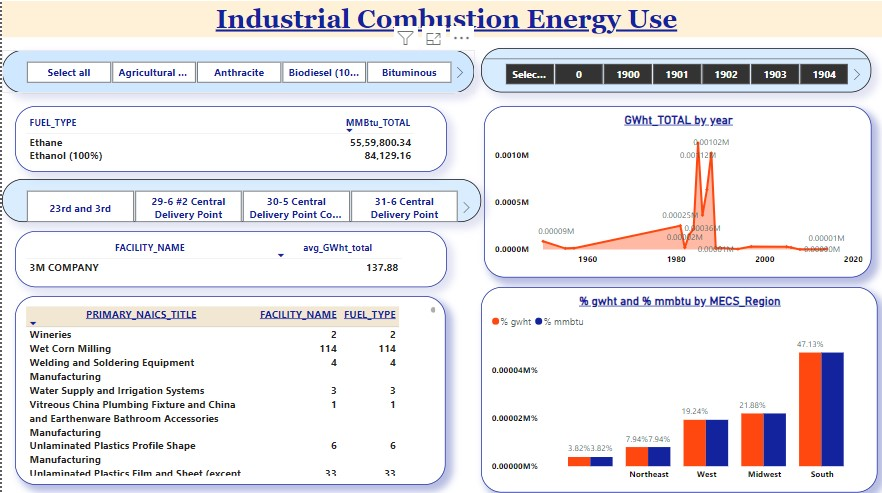

Layout of this report page (visuals, bound fields, positions):
{"tool":"powerbi","page":{"name":"DASHBOARD","canvas":[1280,720],"ordinal":0},"visuals":[{"type":"tableEx","fields":{"Values":["data_1.FUEL_TYPE","Sum(data_1.MMBtu_TOTAL)"]},"box":[19.2,163.3,621.6,94.7],"z":0},{"type":"tableEx","fields":{"Values":["data_1.FACILITY_NAME","data_1.avg_GWht_total"]},"box":[19.2,343.1,621.6,81],"z":1000},{"type":"areaChart","fields":{"Category":["data_1.year"],"Y":["Sum(data_1.GWht_TOTAL)"]},"box":[694.3,163.3,558.5,247],"z":2000},{"type":"clusteredColumnChart","fields":{"Category":["data_1.MECS_Region"],"Y":["data_1.% gwht","data_1.% mmbtu"]},"box":[690.2,424,570.8,296.4],"z":3000},{"type":"tableEx","fields":{"Values":["data_1.PRIMARY_NAICS_TITLE","data_1.FACILITY_NAME","data_1.FUEL_TYPE"]},"box":[19.2,436.4,620.2,271.7],"z":4000},{"type":"textbox","box":[0,11,1280,52.1],"z":5000},{"type":"slicer","fields":{"Values":["data_1.FUEL_TYPE"]},"box":[0,82.3,680.5,61.7],"z":6000},{"type":"slicer","fields":{"Values":["data_1.FACILITY_NAME"]},"box":[0,267.5,690.1,61.7],"z":7000},{"type":"slicer","fields":{"Values":["data_1.year"]},"box":[690.1,79.6,562.5,64.5],"z":8000}]}

Visuals, with their boxes in screenshot pixels (x1, y1, x2, y2), scaled from the page's 1280x720 canvas onto the 882x493 screenshot:
tableEx - data_1.FUEL_TYPE x Sum(data_1.MMBtu_TOTAL): rect(13, 112, 442, 177)
tableEx - data_1.FACILITY_NAME x data_1.avg_GWht_total: rect(13, 235, 442, 290)
areaChart - data_1.year x Sum(data_1.GWht_TOTAL): rect(478, 112, 863, 281)
clusteredColumnChart - data_1.MECS_Region x data_1.% gwht: rect(476, 290, 869, 492)
tableEx - data_1.PRIMARY_NAICS_TITLE x data_1.FACILITY_NAME: rect(13, 299, 441, 485)
textbox: rect(0, 8, 881, 43)
slicer - data_1.FUEL_TYPE: rect(0, 56, 469, 99)
slicer - data_1.FACILITY_NAME: rect(0, 183, 476, 225)
slicer - data_1.year: rect(476, 55, 863, 99)
